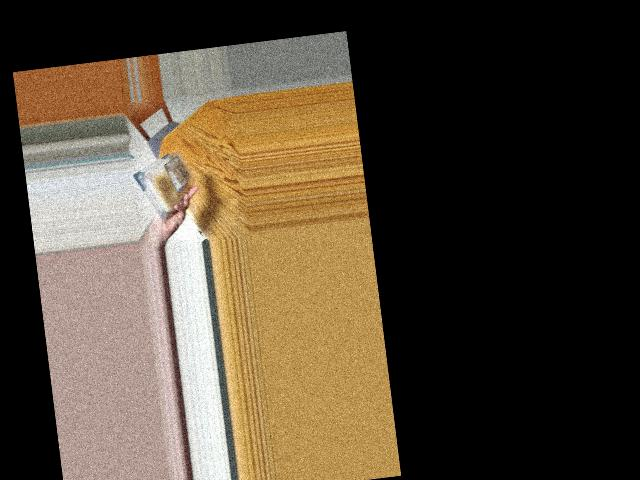cheese: (135, 150, 189, 221)
